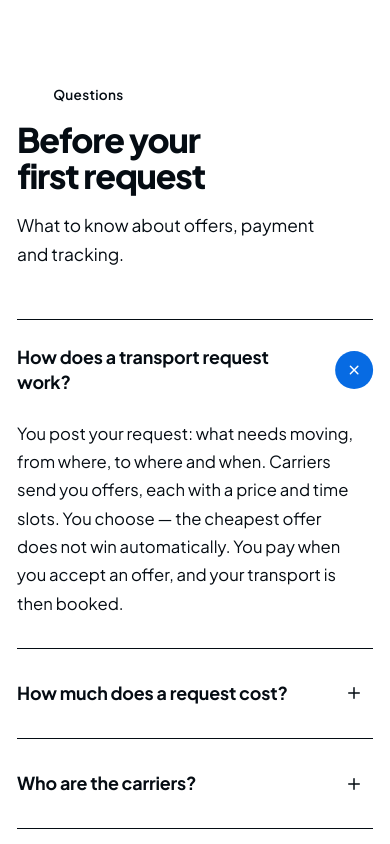
Test: the FAQ › opens one answer at a time, each a region named by its question
The image size is (390, 844).
Step 1. Click the button "How much does a request cost?" → (195, 693), box [17,649,373,738]
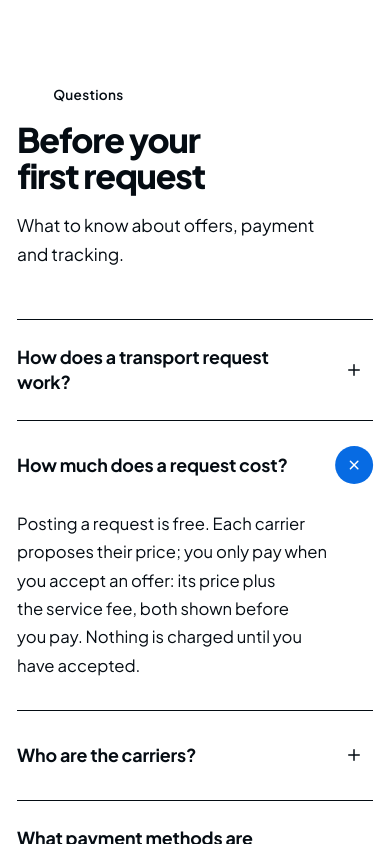
Result: the button "How much does a request cost?" is expanded
Result: the button "How does a transport request work?" is collapsed at [17,320,373,420]
Step 2. Click the button "How much does a request cost?" → (195, 466), box [17,421,373,510]
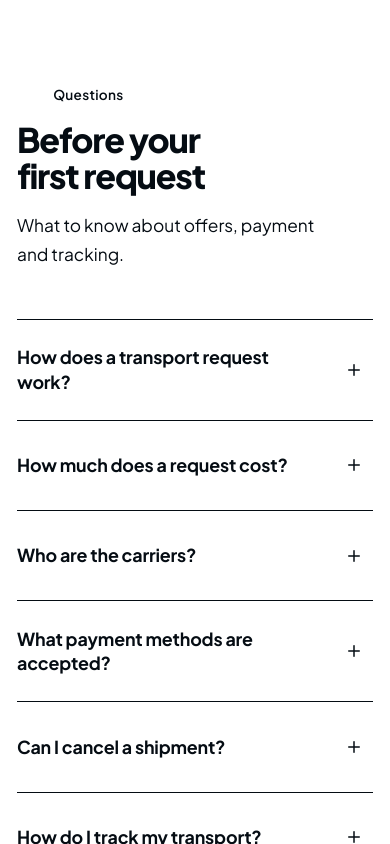
Result: the button "How much does a request cost?" is collapsed at [17,421,373,510]
